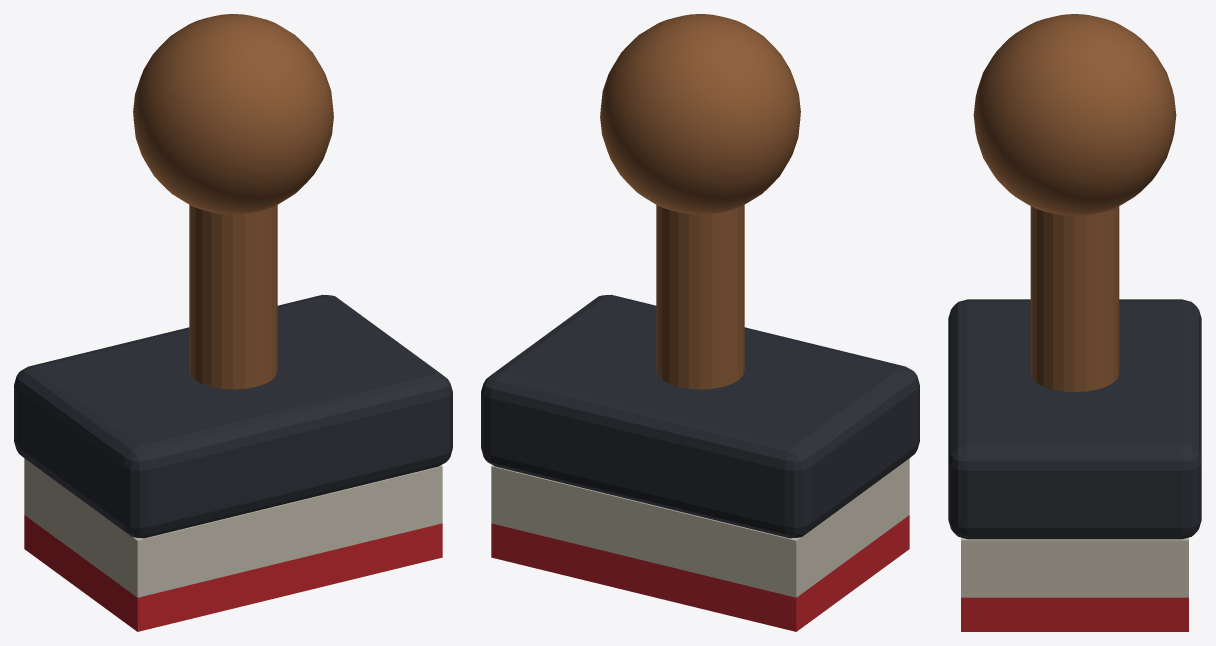
Rendered from sello.glb.
3 views of the same model, side by side, from view 1: azimuth 30°, elevation 25°; view 2: azimuth 150°, elevation 25°; view 3: azimuth 270°, elevation 25° (orthographic).
Parts seen in each view (by area): view 1: Cube, Sphere, Cube.001, Cylinder, goma; view 2: Cube, Sphere, Cube.001, Cylinder, goma; view 3: Cube, Sphere, Cylinder, Cube.001, goma.
Part boxes in pixels (bbox=[...]): Cube: bbox=[14, 294, 452, 538]; Sphere: bbox=[133, 14, 333, 214]; Cube.001: bbox=[24, 458, 442, 597]; Cylinder: bbox=[189, 205, 277, 389]; goma: bbox=[24, 515, 442, 631]; Cube: bbox=[481, 294, 919, 538]; Sphere: bbox=[600, 14, 800, 214]; Cube.001: bbox=[491, 458, 909, 597]; Cylinder: bbox=[656, 205, 744, 389]; goma: bbox=[491, 515, 909, 631]; Cube: bbox=[948, 299, 1201, 539]; Sphere: bbox=[973, 14, 1176, 215]; Cylinder: bbox=[1030, 206, 1119, 391]; Cube.001: bbox=[961, 537, 1188, 597]; goma: bbox=[961, 597, 1188, 631].
Bounding box in the file's own units: 0.6 × 0.93 × 0.4.
